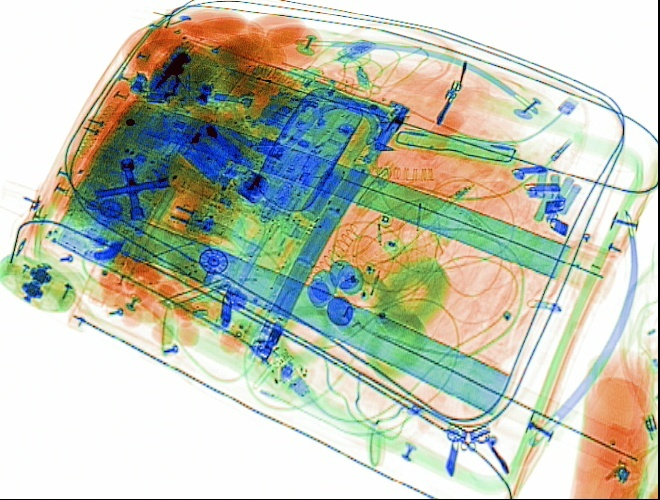powerbank: (173, 112, 251, 191)
